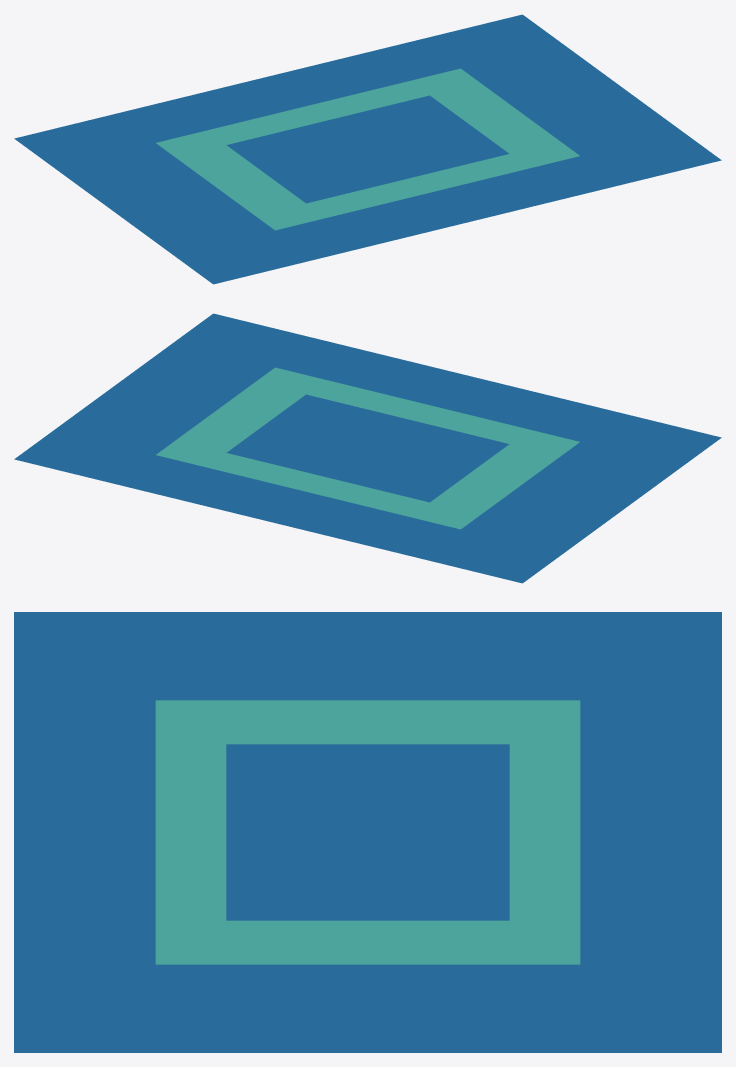
Rendered from Carpet.fbx.
3 renders of one model, top to bottom at view 1: azimuth 30°, elevation 25°; view 2: azimuth 150°, elevation 25°; view 3: azimuth 270°, elevation 25°, orthographic. The views are drawn at different scales.
Visible parts, largest first — view 1: pPlane1; view 2: pPlane1; view 3: pPlane1.
Boxes of the visible parts, x1,y1,x2,y2 form: pPlane1: (14,14,721,284); pPlane1: (14,313,721,583); pPlane1: (14,612,721,1052).
Bounding box in the file's own units: 5.47 × 8.25e-16 × 3.72.
